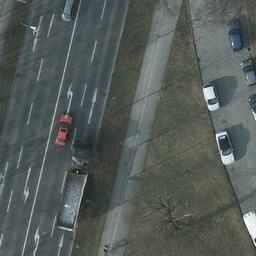car: (215, 131, 235, 164), (53, 115, 71, 146), (203, 80, 218, 111), (229, 18, 243, 51), (241, 59, 256, 86), (61, 1, 75, 20)
